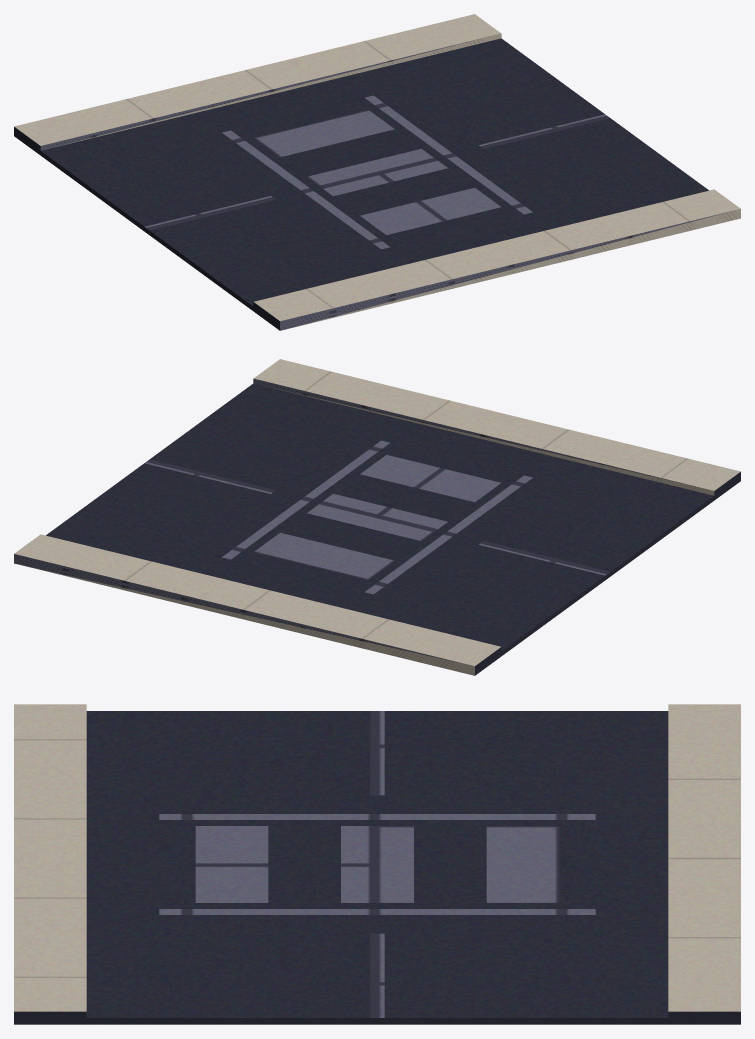
File: road-crossing.raw.glb
3 views of the same model, one above another, from view 1: azimuth 30°, elevation 25°; view 2: azimuth 150°, elevation 25°; view 3: azimuth 270°, elevation 25° (orthographic). The views are drawn at different scales.
Parts seen in each view (by area): view 1: road-crossing; view 2: road-crossing; view 3: road-crossing.
Boxes of the visible parts, x1,y1,x2,y2 form: road-crossing: (14, 14, 740, 330); road-crossing: (14, 359, 740, 675); road-crossing: (14, 704, 740, 1024).
Size of the model in its own units: 10.6 by 0.212 by 10.6.
1 material, 1 textured.
